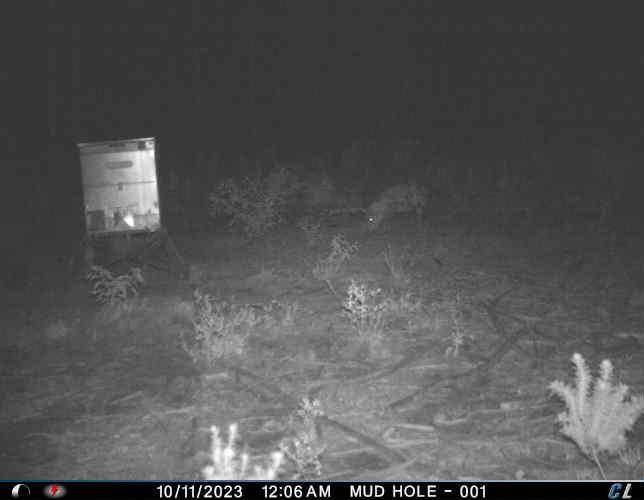Hog: (362, 177, 432, 236)
